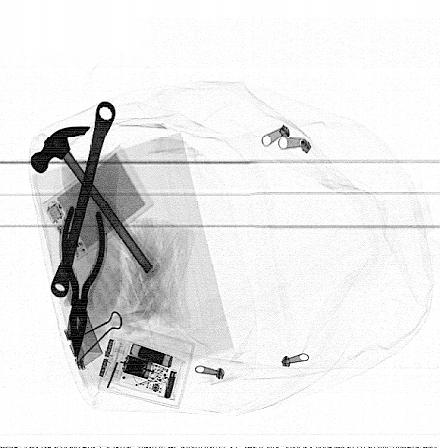Hammer: (31, 125, 159, 283)
Pliers: (60, 202, 108, 361)
Powerbank: (41, 144, 156, 263)
Wrench: (51, 100, 116, 297)
